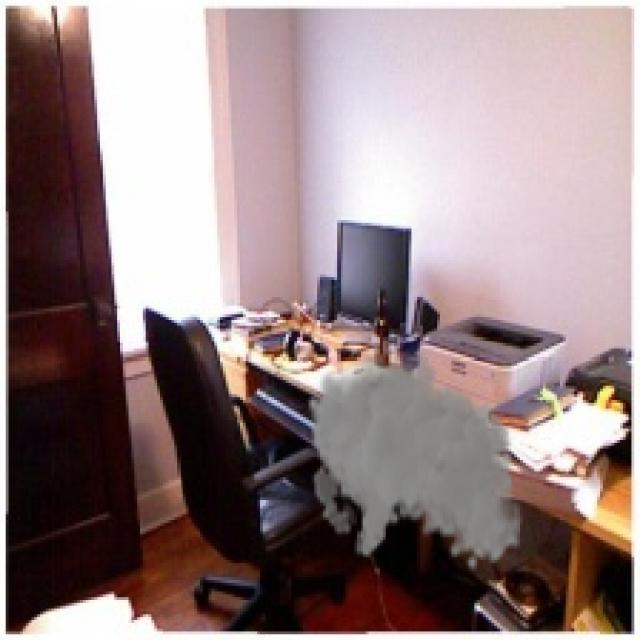smoke: (306, 340, 523, 571)
